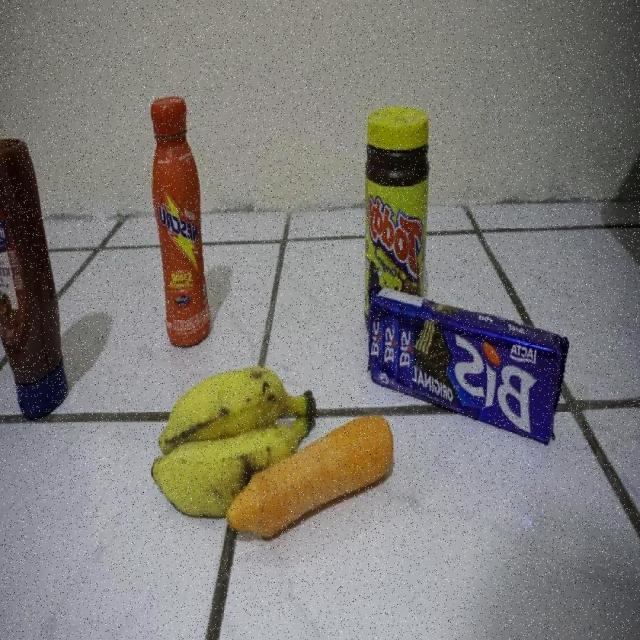Banana: (146, 365, 317, 448)
Carrot: (313, 405, 396, 517)
ChocolateMilk: (148, 94, 210, 344)
ChocolatePowder: (364, 106, 431, 286)
Ketchup: (0, 120, 66, 426)
